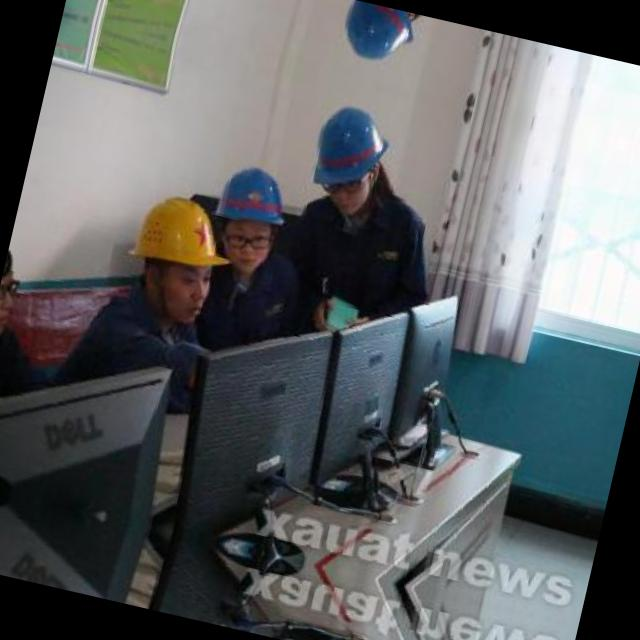helmet: (114, 182, 236, 332), (293, 88, 400, 226), (195, 152, 301, 290), (326, 0, 421, 78)
